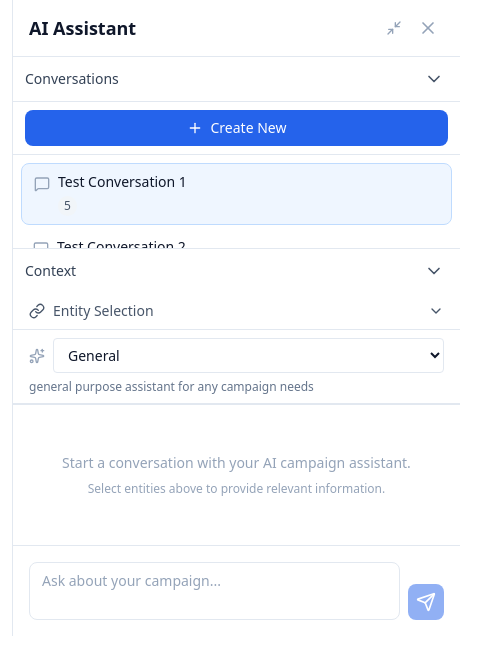
ChatPanel Component - Collapsible Conversations Section (Issue #203) › should expand conversation list when chevron is clicked again
What coordinates should you click on to do the following:
click the button named "toggle conversations"
I would click on:
 (434, 79)
Its box is x1=420 y1=65 x2=448 y2=93.
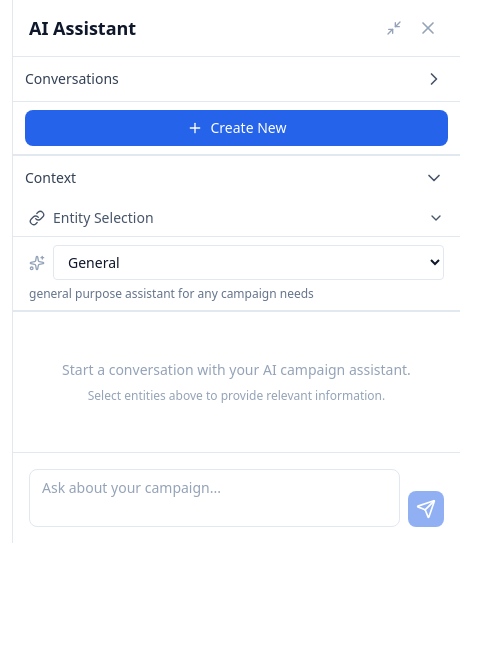
expect the button "Test Conversation 1" is gone: met
What coordinates should you click on to do the following:
click the button named "expand conversations"
I would click on:
 (434, 79)
Its box is x1=420 y1=65 x2=448 y2=93.
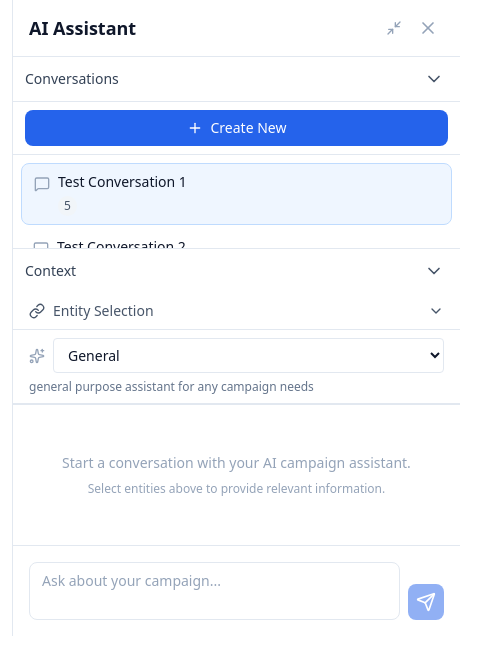
expect the text "Test Conversation 1" is shown: met, box x1=58 y1=172 x2=187 y2=191
